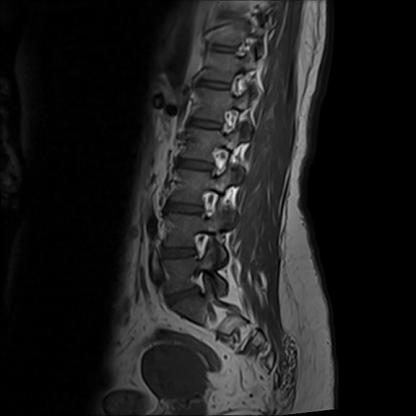Degenerative Disc Diseaserotation: (165, 290, 204, 305)
Disc Herniationrotation: (163, 288, 202, 303)
